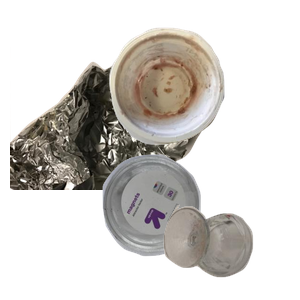glass: (161, 202, 300, 300)
metal: (10, 47, 216, 227)
plastic: (100, 152, 293, 300)
trash: (107, 25, 300, 162)
